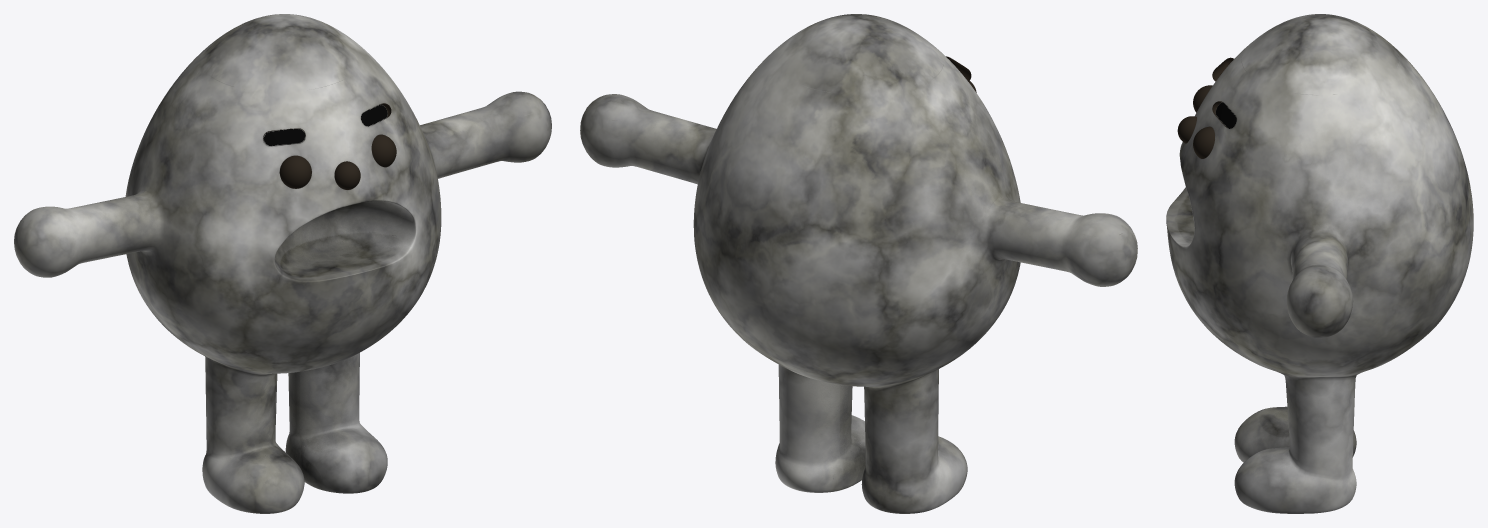
The model's file is eggMarble.glb.
The picture shows the model from 3 angles, left to right: view 1: azimuth 30°, elevation 25°; view 2: azimuth 150°, elevation 25°; view 3: azimuth 270°, elevation 25°; orthographic projection. The views are drawn at different scales.
Parts seen in each view (by area): view 1: COMPLETE egg; view 2: COMPLETE egg; view 3: COMPLETE egg.
Part boxes in pixels (<box>): COMPLETE egg: <box>14,14,551,513</box>; COMPLETE egg: <box>580,14,1137,513</box>; COMPLETE egg: <box>1166,14,1473,513</box>.
Bounding box in the file's own units: 4.15 × 3.38 × 2.07.
Materials: 2 (1 with a texture image).
